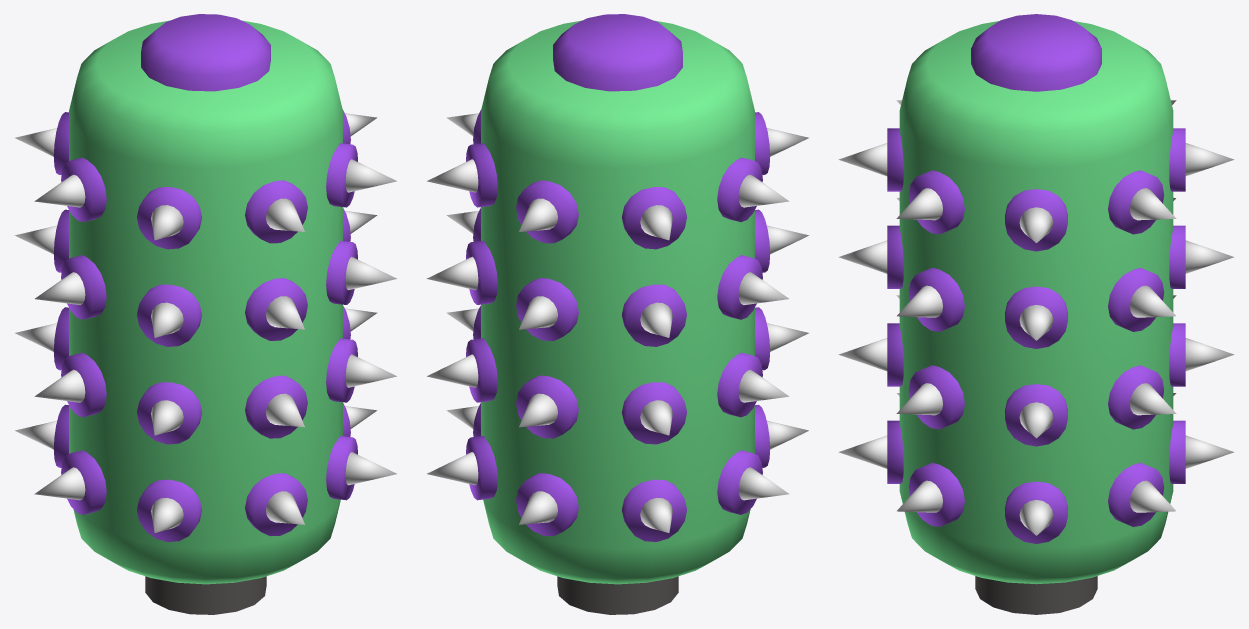
The model's file is Obstacle 19 V4.fbx.
The picture shows the model from 3 angles, left to right: view 1: azimuth 30°, elevation 25°; view 2: azimuth 150°, elevation 25°; view 3: azimuth 270°, elevation 25°; orthographic projection.
Visible parts, largest first — view 1: O19 Part 1, O19 Part 2; view 2: O19 Part 1, O19 Part 2; view 3: O19 Part 1, O19 Part 2.
Part boxes in pixels (x1,y1,x2,y2): O19 Part 1: (14,14,397,584); O19 Part 2: (145,576,266,614); O19 Part 1: (426,14,809,584); O19 Part 2: (557,576,678,614); O19 Part 1: (838,14,1234,584); O19 Part 2: (975,576,1097,614).
Size of the model in its own units: 79.81 by 123 by 79.81.
1 material, 1 textured.
